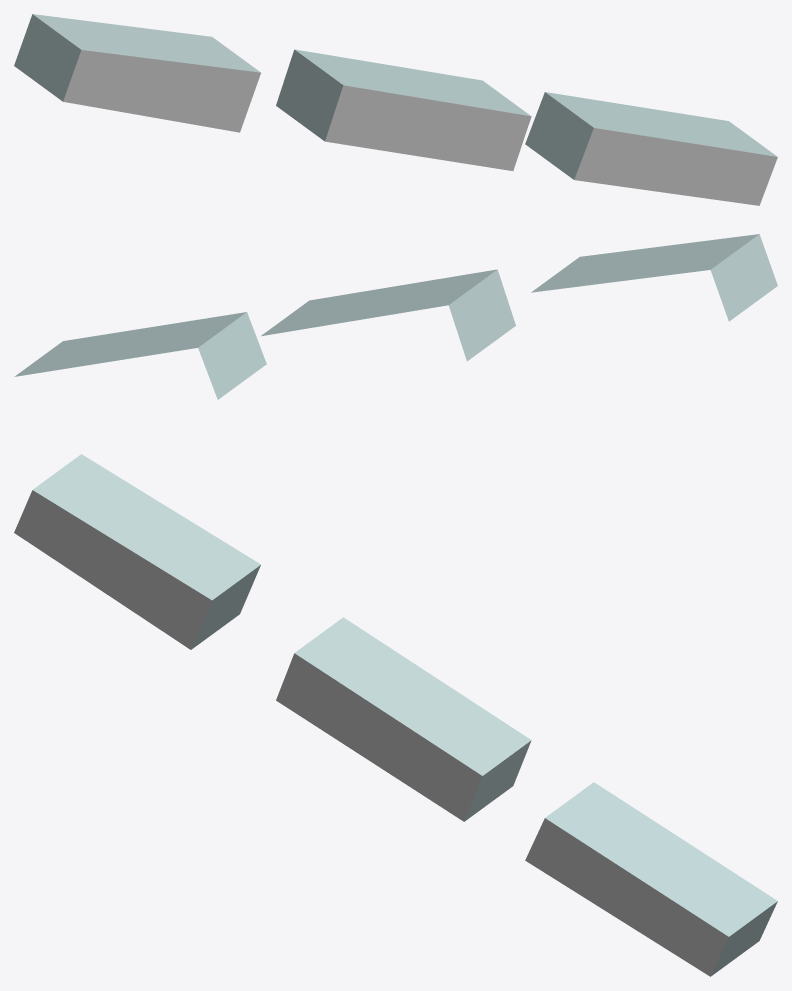
3 views of the same model, one above another, from view 1: azimuth 30°, elevation 25°; view 2: azimuth 150°, elevation 25°; view 3: azimuth 330°, elevation 25° (orthographic).
Visible parts, largest first — view 1: 0_0_2_0_3_1_2_2_2; view 2: 0_0_2_0_3_1_2_2_2; view 3: 0_0_2_0_3_1_2_2_2.
Part boxes in pixels (x1,y1,x2,y2): 0_0_2_0_3_1_2_2_2: (14,14,777,205); 0_0_2_0_3_1_2_2_2: (14,234,777,399); 0_0_2_0_3_1_2_2_2: (14,454,777,976).
Size of the model in its own units: 25.25 by 10.85 by 3.
